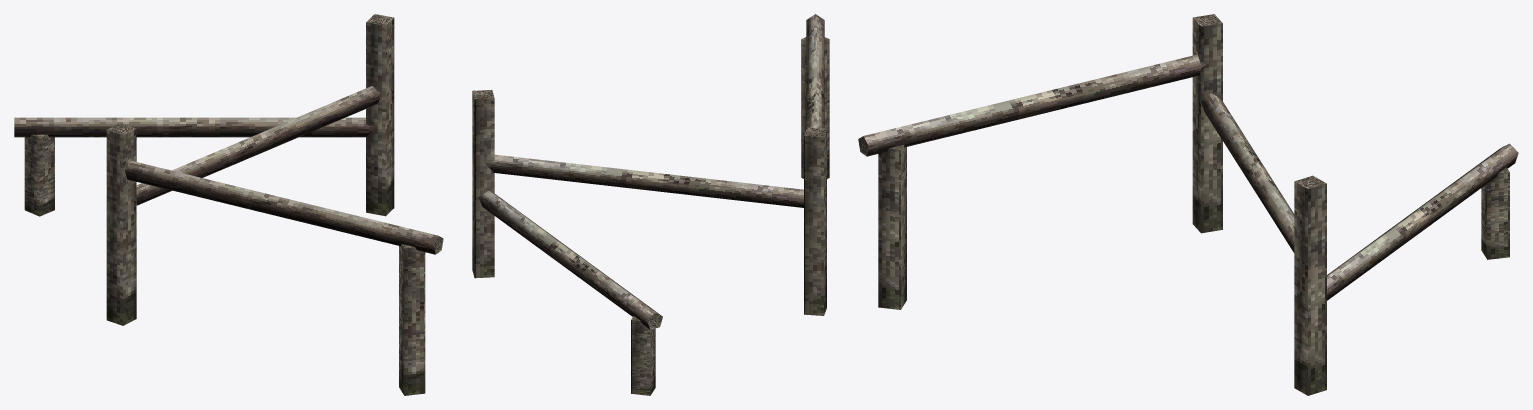
The model's file is Environment - Prop - Wood Beams 01 - PMBalBeam.glb.
3 renders of one model, left to right at view 1: azimuth 30°, elevation 25°; view 2: azimuth 150°, elevation 25°; view 3: azimuth 270°, elevation 25°, orthographic. The views are drawn at different scales.
Parts seen in each view (by area): view 1: PMBALBEAM; view 2: PMBALBEAM; view 3: PMBALBEAM.
Part boxes in pixels (x1=…): PMBALBEAM: x1=14, y1=14, x2=443, y2=395; PMBALBEAM: x1=472, y1=14, x2=829, y2=395; PMBALBEAM: x1=858, y1=14, x2=1518, y2=395.
Bounding box in the file's own units: 25.44 × 13.99 × 40.51.
Materials: 1 (1 with a texture image).
